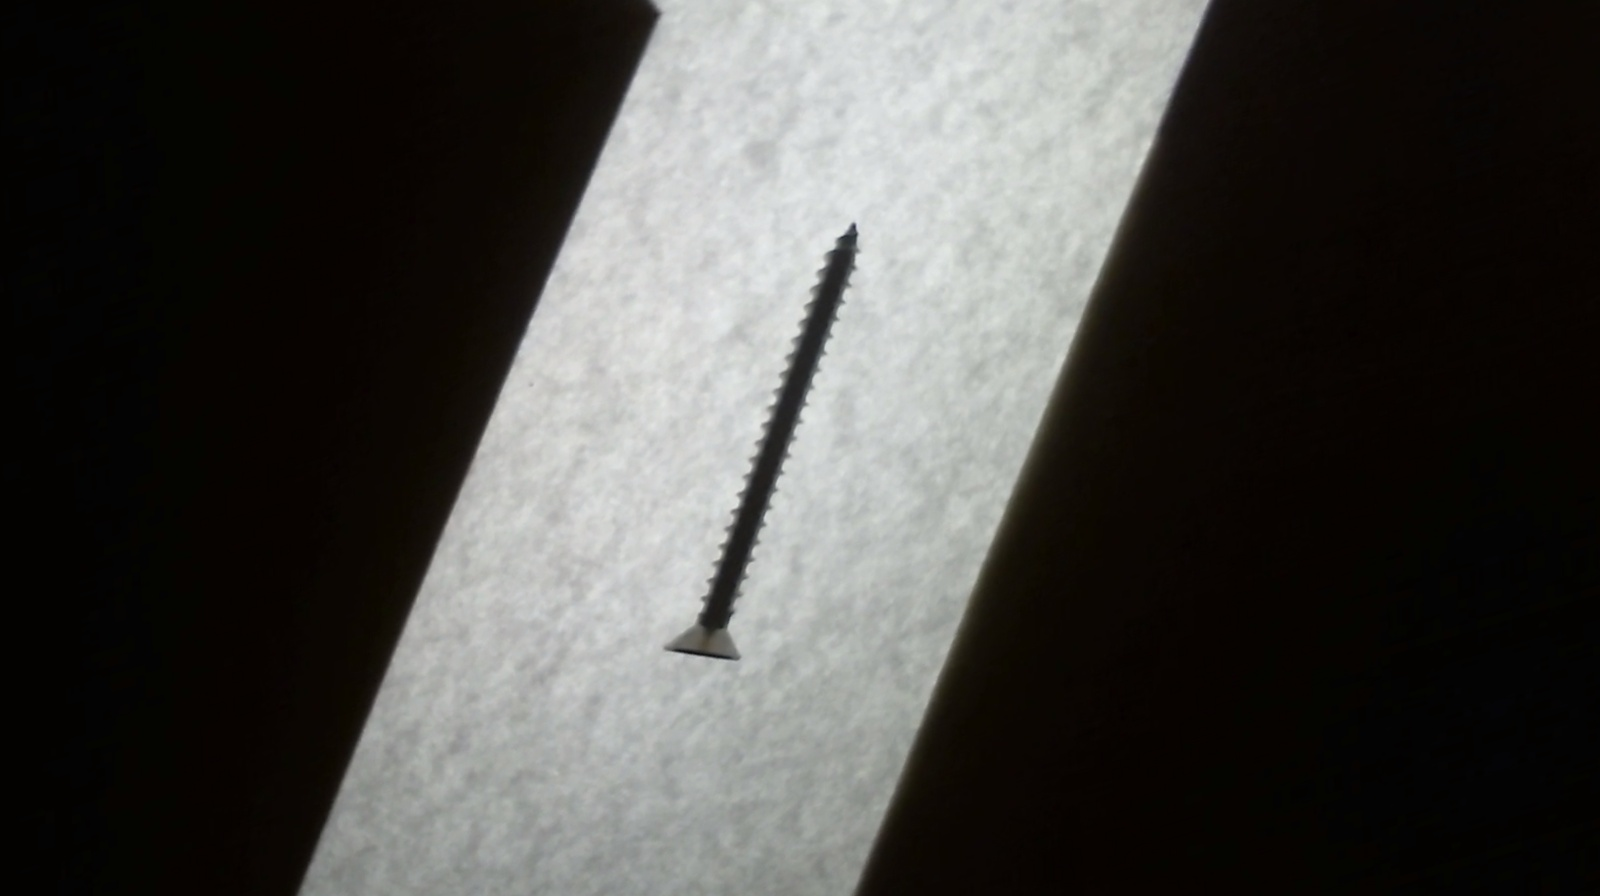S002: (625, 201, 900, 723)
